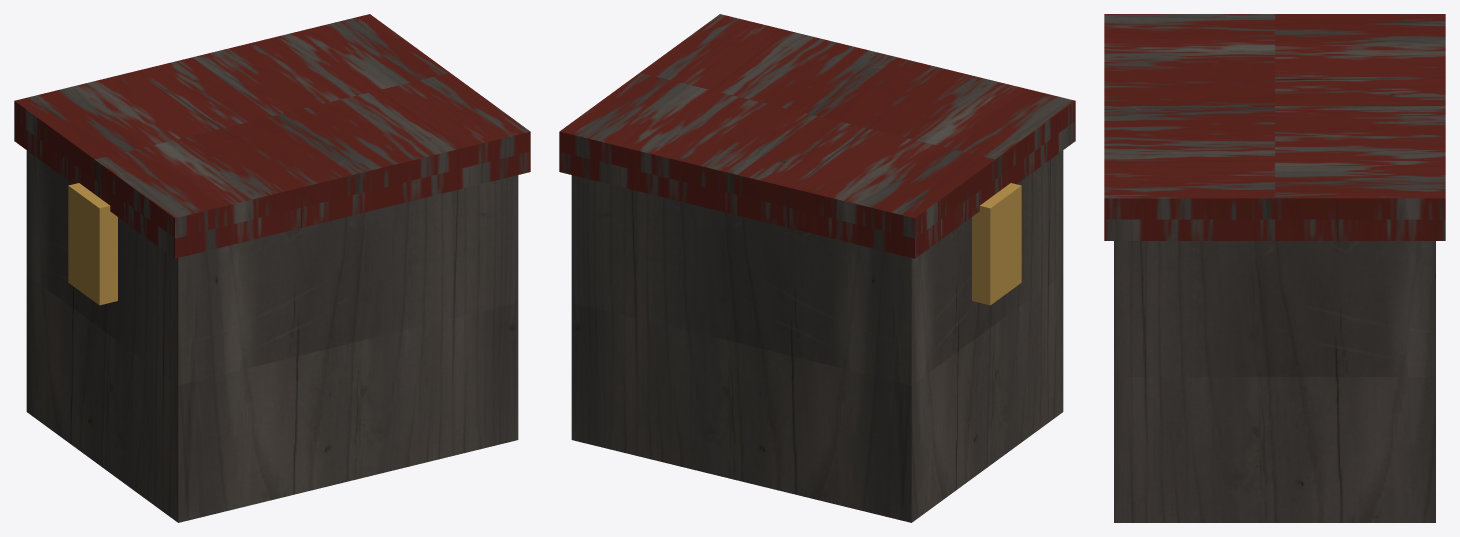
Rendered from SM_KeepsakeBox_c2068c7ed1.fbx.
3 renders of one model, left to right at view 1: azimuth 30°, elevation 25°; view 2: azimuth 150°, elevation 25°; view 3: azimuth 270°, elevation 25°, orthographic. The views are drawn at different scales.
Visible parts, largest first — view 1: SM_KeepsakeBox_c2068c7ed1; view 2: SM_KeepsakeBox_c2068c7ed1; view 3: SM_KeepsakeBox_c2068c7ed1.
Boxes of the visible parts, x1,y1,x2,y2 form: SM_KeepsakeBox_c2068c7ed1: (14, 14, 530, 522); SM_KeepsakeBox_c2068c7ed1: (559, 14, 1075, 522); SM_KeepsakeBox_c2068c7ed1: (1104, 14, 1445, 522).
Size of what is drawn, in the model's own units: 23.7 by 18 by 19.15.
Materials: 3 (2 with a texture image).
